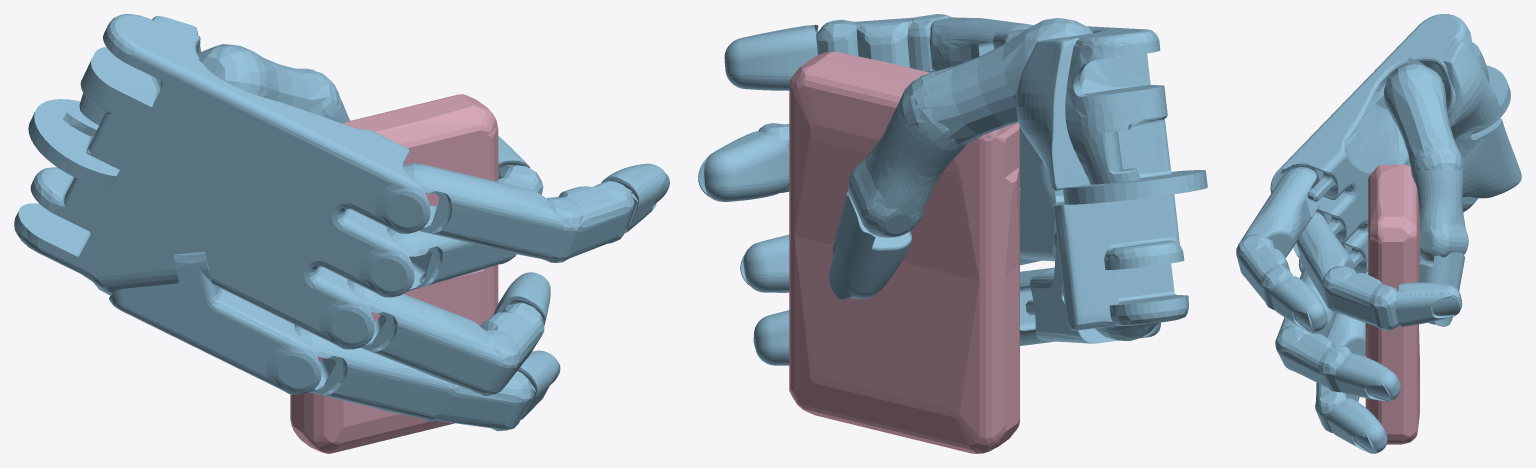
3 renders of one model, left to right at view 1: azimuth 30°, elevation 25°; view 2: azimuth 150°, elevation 25°; view 3: azimuth 270°, elevation 25°, orthographic. The views are drawn at different scales.
Parts seen in each view (by area): view 1: hand_isaac_q, world; view 2: hand_isaac_q, world; view 3: hand_isaac_q, world.
Boxes of the visible parts, x1=… form: hand_isaac_q: x1=14, y1=14, x2=669, y2=431; world: x1=290, y1=94, x2=498, y2=453; hand_isaac_q: x1=698, y1=14, x2=1207, y2=365; world: x1=789, y1=51, x2=1019, y2=453; hand_isaac_q: x1=1236, y1=14, x2=1521, y2=453; world: x1=1365, y1=164, x2=1419, y2=444.
Size of the model in its own units: 0.1853 by 0.1463 by 0.1191.
